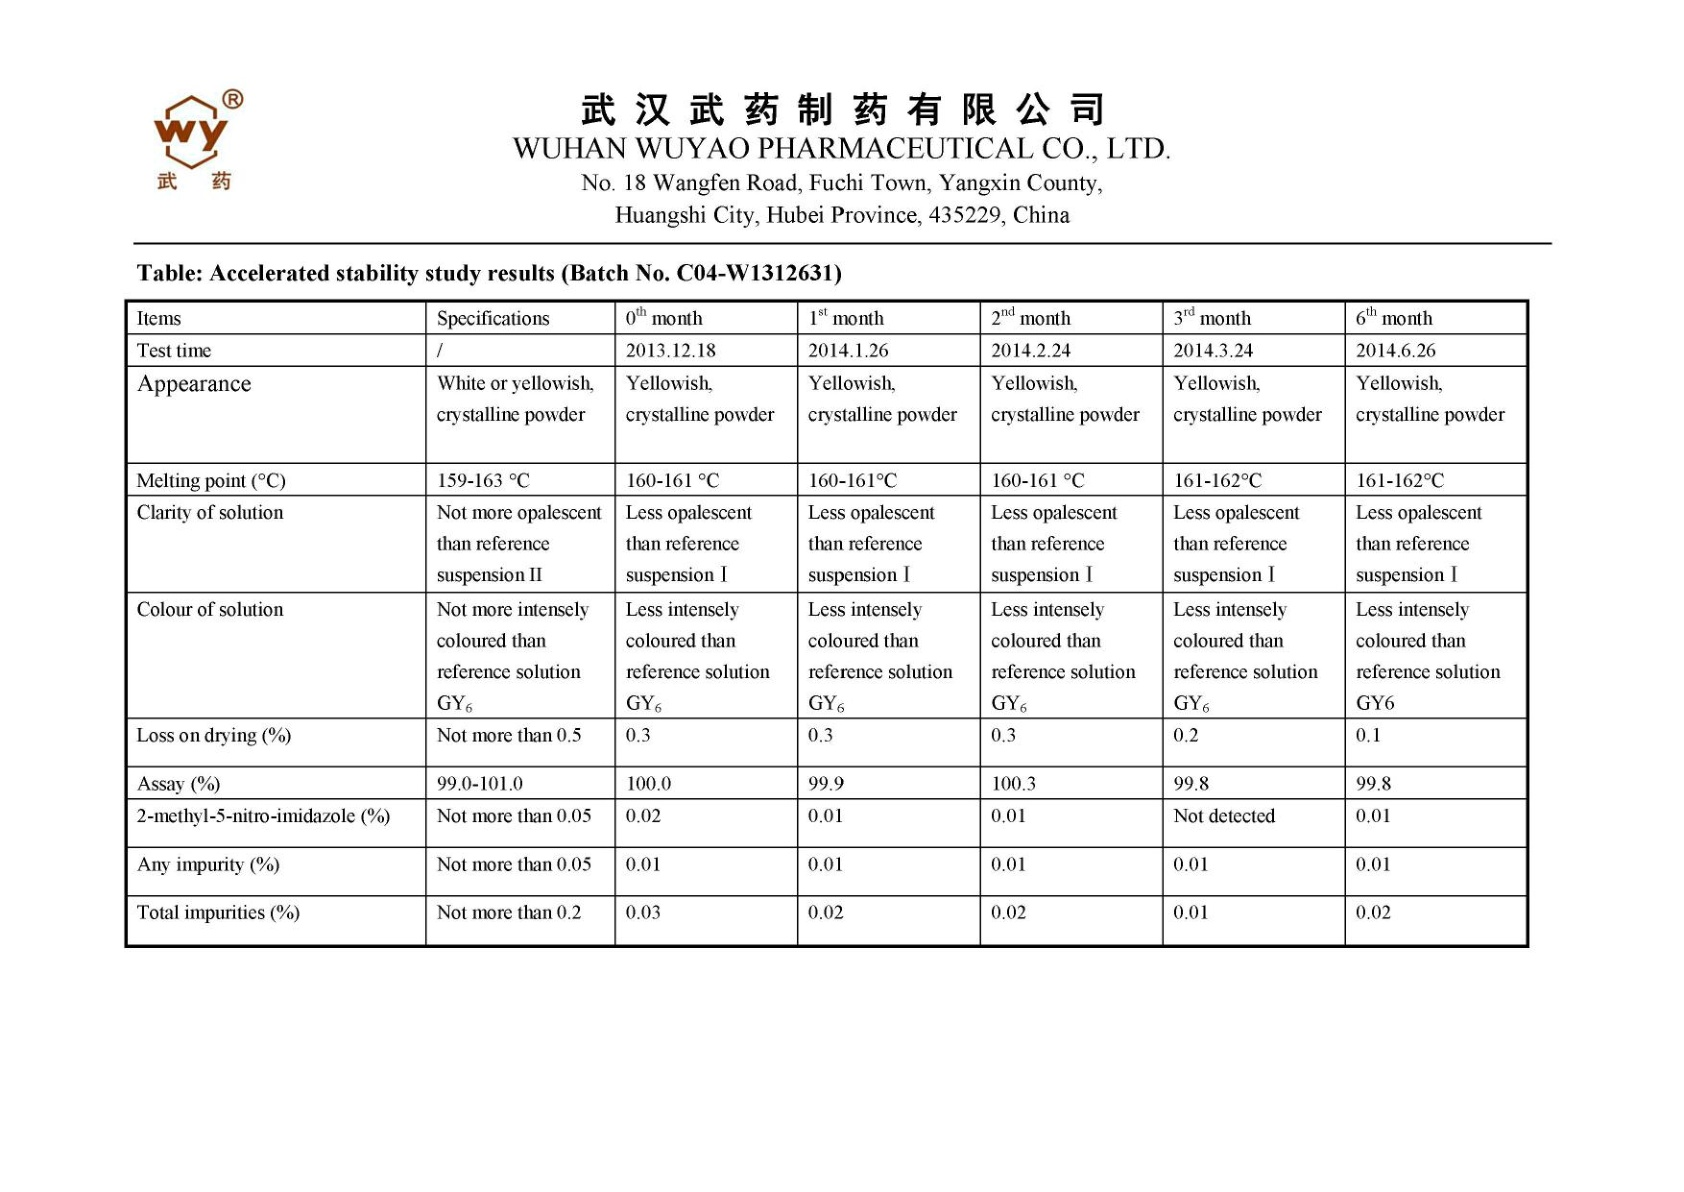full_lined: (122, 299, 1529, 948)
